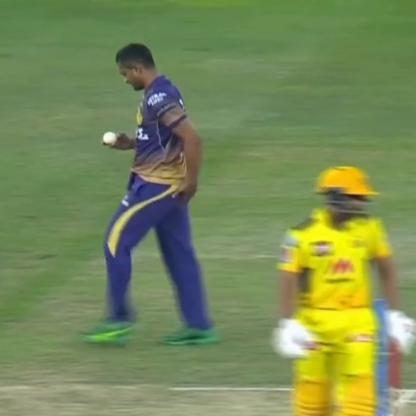ball: (99, 131, 120, 145)
